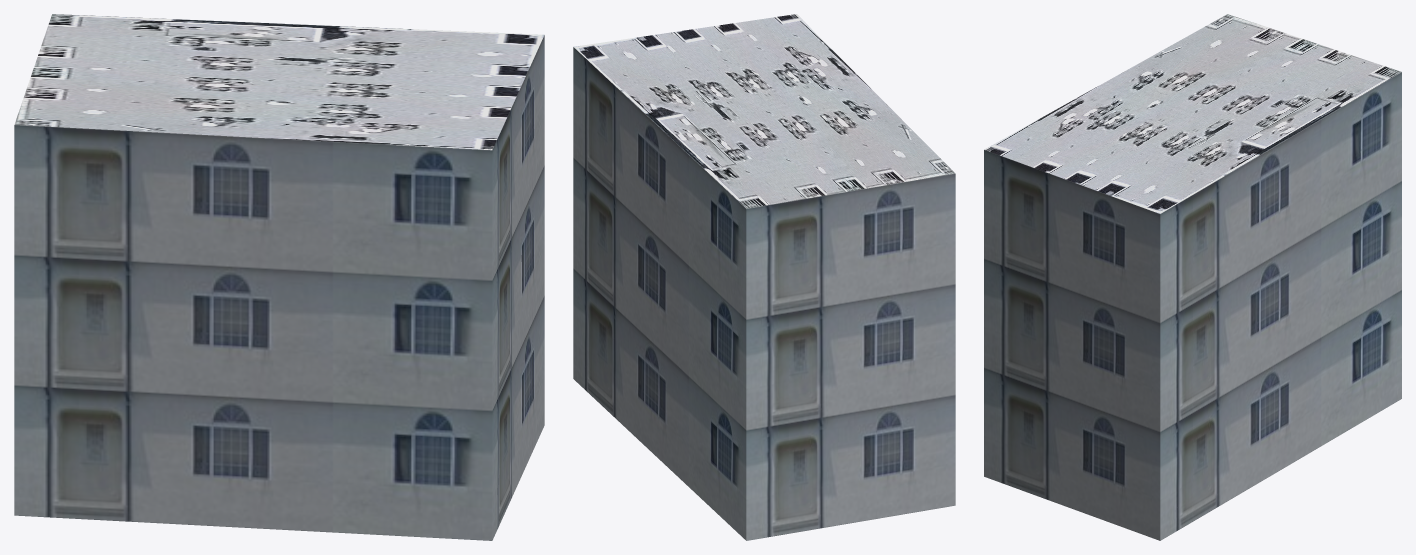
The model's file is ResTex__2961.fbx.
3 views of the same model, side by side, from view 1: azimuth 30°, elevation 25°; view 2: azimuth 150°, elevation 25°; view 3: azimuth 270°, elevation 25° (orthographic). The views are drawn at different scales.
Parts seen in each view (by area): view 1: CityEngineMaterial_17_m, CityEngineMaterial_2_m; view 2: CityEngineMaterial_17_m, CityEngineMaterial_2_m; view 3: CityEngineMaterial_17_m, CityEngineMaterial_2_m.
Part boxes in pixels (x1=…): CityEngineMaterial_17_m: x1=14, y1=35, x2=544, y2=540; CityEngineMaterial_2_m: x1=14, y1=14, x2=544, y2=150; CityEngineMaterial_17_m: x1=573, y1=47, x2=955, y2=540; CityEngineMaterial_2_m: x1=573, y1=14, x2=955, y2=208; CityEngineMaterial_17_m: x1=984, y1=72, x2=1401, y2=540; CityEngineMaterial_2_m: x1=984, y1=14, x2=1401, y2=213.
Bounding box in the file's own units: 11.81 × 9 × 10.42.
Materials: 2 (2 with a texture image).
